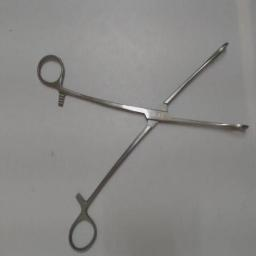Sponge Forceps: (32, 36, 252, 254)
